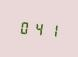four: (32, 19, 44, 37)
one: (45, 20, 57, 38)
zero: (18, 18, 30, 36)
